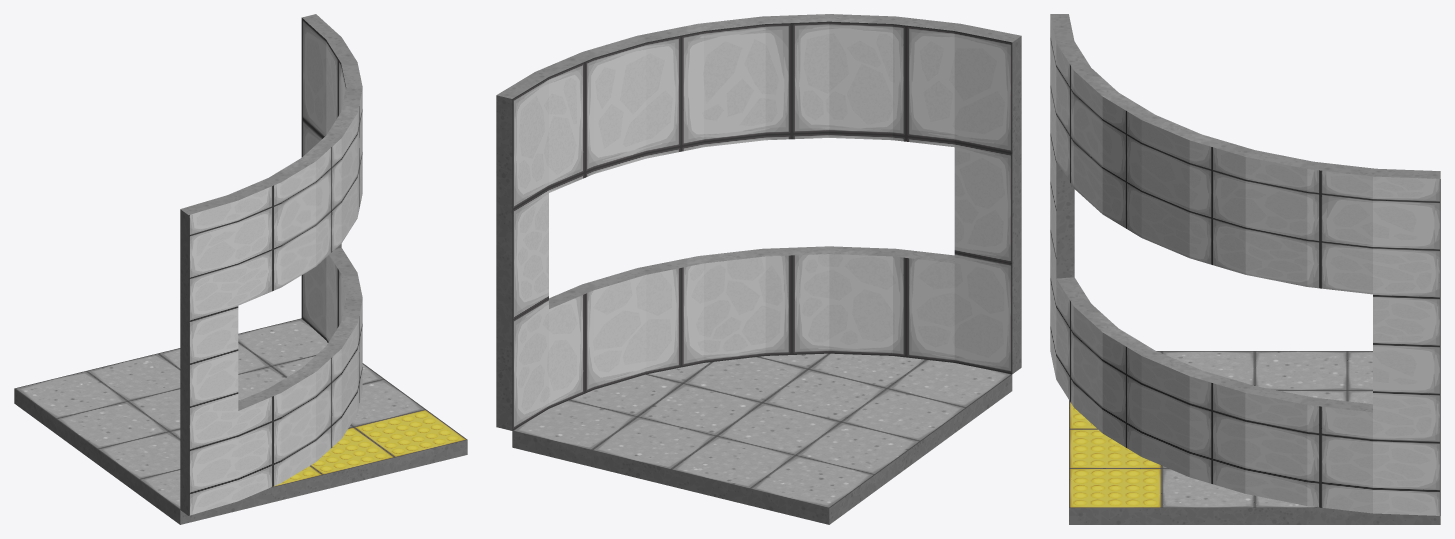
Rendered from SM_Wall_Window_Corner_A.fbx.
3 renders of one model, left to right at view 1: azimuth 30°, elevation 25°; view 2: azimuth 150°, elevation 25°; view 3: azimuth 270°, elevation 25°, orthographic. The views are drawn at different scales.
Parts seen in each view (by area): view 1: SM_Wall_Window_Corner_A; view 2: SM_Wall_Window_Corner_A; view 3: SM_Wall_Window_Corner_A.
Part boxes in pixels (<box>): SM_Wall_Window_Corner_A: <box>14,14,467,524</box>; SM_Wall_Window_Corner_A: <box>496,14,1021,524</box>; SM_Wall_Window_Corner_A: <box>1050,14,1440,524</box>.
Size of the model in its own units: 420 by 420 by 420.
